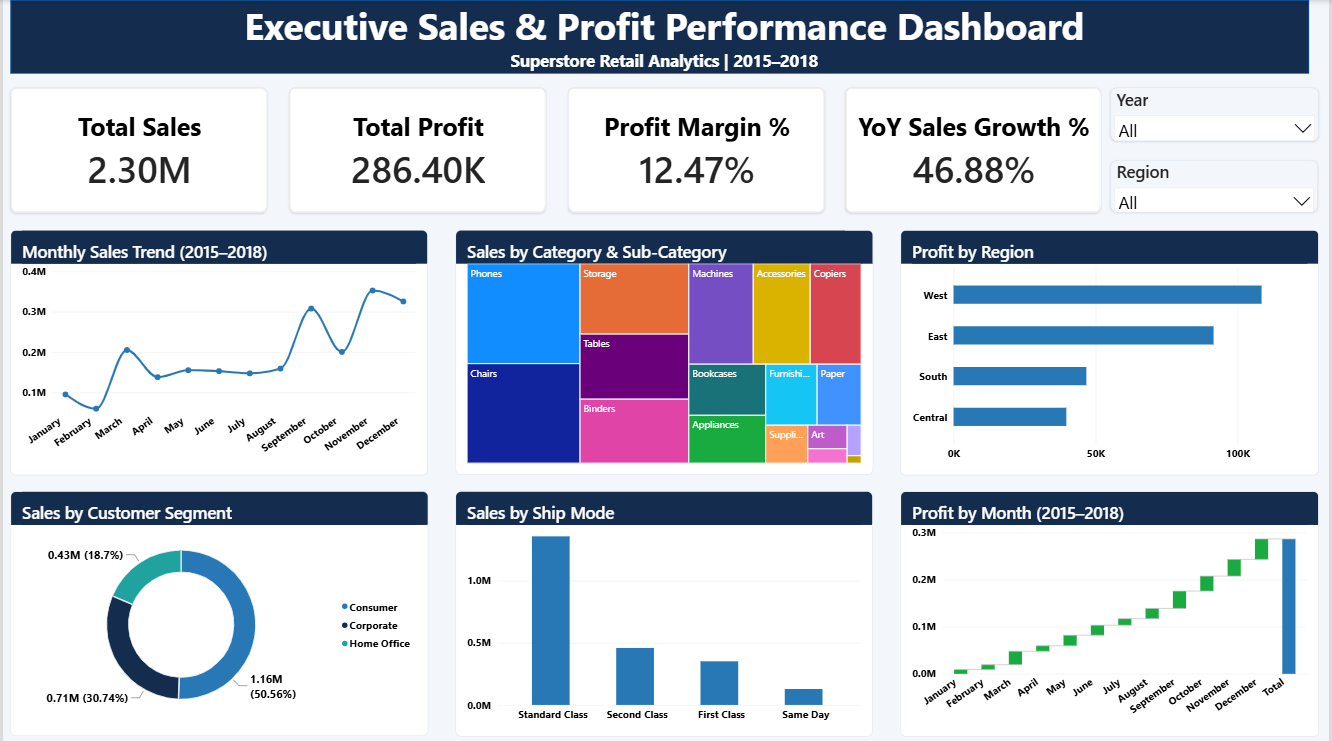

What the dashboard file says about the page in this screenshot:
{"tool":"powerbi","page":{"name":"Page 1","canvas":[1920,1080],"ordinal":0},"visuals":[{"type":"textbox","box":[10.9,0,1909.2,106.8],"z":0},{"type":"lineChart","title":"Monthly Sales Trend (2015–2018)","fields":{"Category":["Dim Date.Month Name"],"Y":["Sum(Fact Orders.Sales)"]},"box":[11.1,333,603.7,355.6],"z":1000},{"type":"treemap","title":"Sales by Category & Sub-Category","fields":{"Group":["Dim Product.Sub-Category","Dim Product.Category"],"Values":["Sum(Fact Orders.Sales)"]},"box":[655.2,333,604.4,354.7],"z":2000},{"type":"clusteredBarChart","title":"Profit by Region","fields":{"Category":["Fact Orders.Region"],"Y":["Sum(Fact Orders.Profit)"]},"box":[1300,333,605.6,355.6],"z":3000},{"type":"donutChart","title":"Sales by Customer Segment","fields":{"Category":["Fact Orders.Segment"],"Y":["Sum(Fact Orders.Sales)"]},"box":[10.9,711.1,604.4,354.7],"z":4000},{"type":"columnChart","title":"Sales by Ship Mode","fields":{"Category":["Fact Orders.Ship Mode"],"Y":["Sum(Fact Orders.Sales)"]},"box":[655.8,711.1,603.7,355.6],"z":5000},{"type":"waterfallChart","title":"Profit by Month (2015–2018)","fields":{"Category":["Dim Date.Month Name"],"Y":["Sum(Fact Orders.Profit)"]},"box":[1300,711.1,605.6,355.6],"z":6000},{"type":"cardVisual","fields":{"Data":["Sum(Fact Orders.Profit)"]},"box":[414.2,125.9,372.2,181.5],"z":7000},{"type":"cardVisual","fields":{"Data":["Dim Customer.Profit Margin %"]},"box":[817.3,125.9,372.2,181.5],"z":8000},{"type":"cardVisual","fields":{"Data":["Dim Customer.YoY Sales Growth %"]},"box":[1220.4,125.9,370.4,181.5],"z":9000},{"type":"slicer","fields":{"Values":["Dim Date.Year"]},"box":[1603.7,125.9,301.9,77.8],"z":10000},{"type":"cardVisual","fields":{"Data":["Sum(Fact Orders.Sales)"]},"box":[11.1,125.9,372.2,181.5],"z":11000},{"type":"slicer","fields":{"Values":["Fact Orders.Region"]},"box":[1603.7,231.5,300,75.9],"z":12000},{"type":"shape","box":[10.9,0,1880.2,106.8],"z":13000},{"type":"textbox","box":[10.9,0,1892.9,106.8],"z":14000}]}

Visuals, with their boxes in screenshot pixels (x1, y1, x2, y2), scaled from the page's 1920x1080 canvas onto the 1332x741 screenshot:
textbox: (8, 0, 1331, 73)
"Monthly Sales Trend (2015–2018)" lineChart: (8, 228, 427, 472)
"Sales by Category & Sub-Category" treemap: (455, 228, 874, 472)
"Profit by Region" clusteredBarChart: (902, 228, 1322, 472)
"Sales by Customer Segment" donutChart: (8, 488, 427, 731)
"Sales by Ship Mode" columnChart: (455, 488, 874, 732)
"Profit by Month (2015–2018)" waterfallChart: (902, 488, 1322, 732)
cardVisual - Sum(Fact Orders.Profit): (287, 86, 546, 211)
cardVisual - Dim Customer.Profit Margin %: (567, 86, 825, 211)
cardVisual - Dim Customer.YoY Sales Growth %: (847, 86, 1104, 211)
slicer - Dim Date.Year: (1113, 86, 1322, 140)
cardVisual - Sum(Fact Orders.Sales): (8, 86, 266, 211)
slicer - Fact Orders.Region: (1113, 159, 1321, 211)
shape: (8, 0, 1312, 73)
textbox: (8, 0, 1321, 73)
